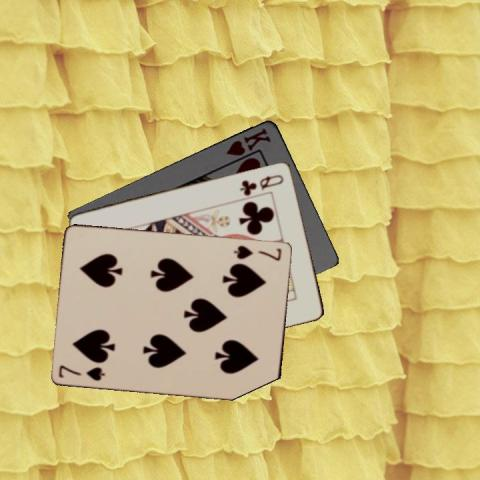7s: (231, 242, 283, 262), (56, 362, 107, 382)
Kh: (223, 124, 273, 157)
Qc: (237, 171, 285, 196)
